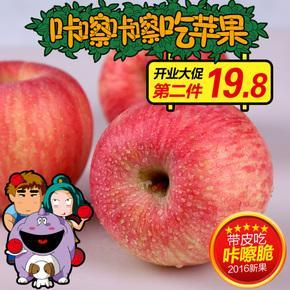apple: (91, 107, 276, 275), (0, 61, 92, 210)
